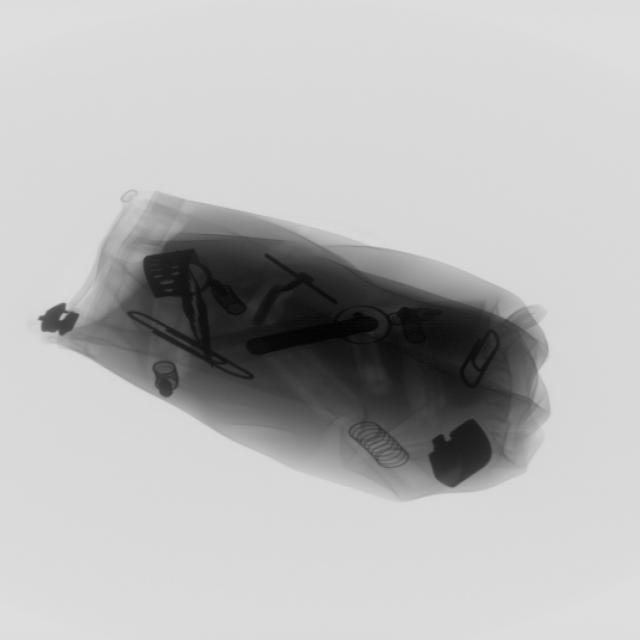BLADE: (185, 277, 215, 347)
GUN: (239, 313, 378, 353)
